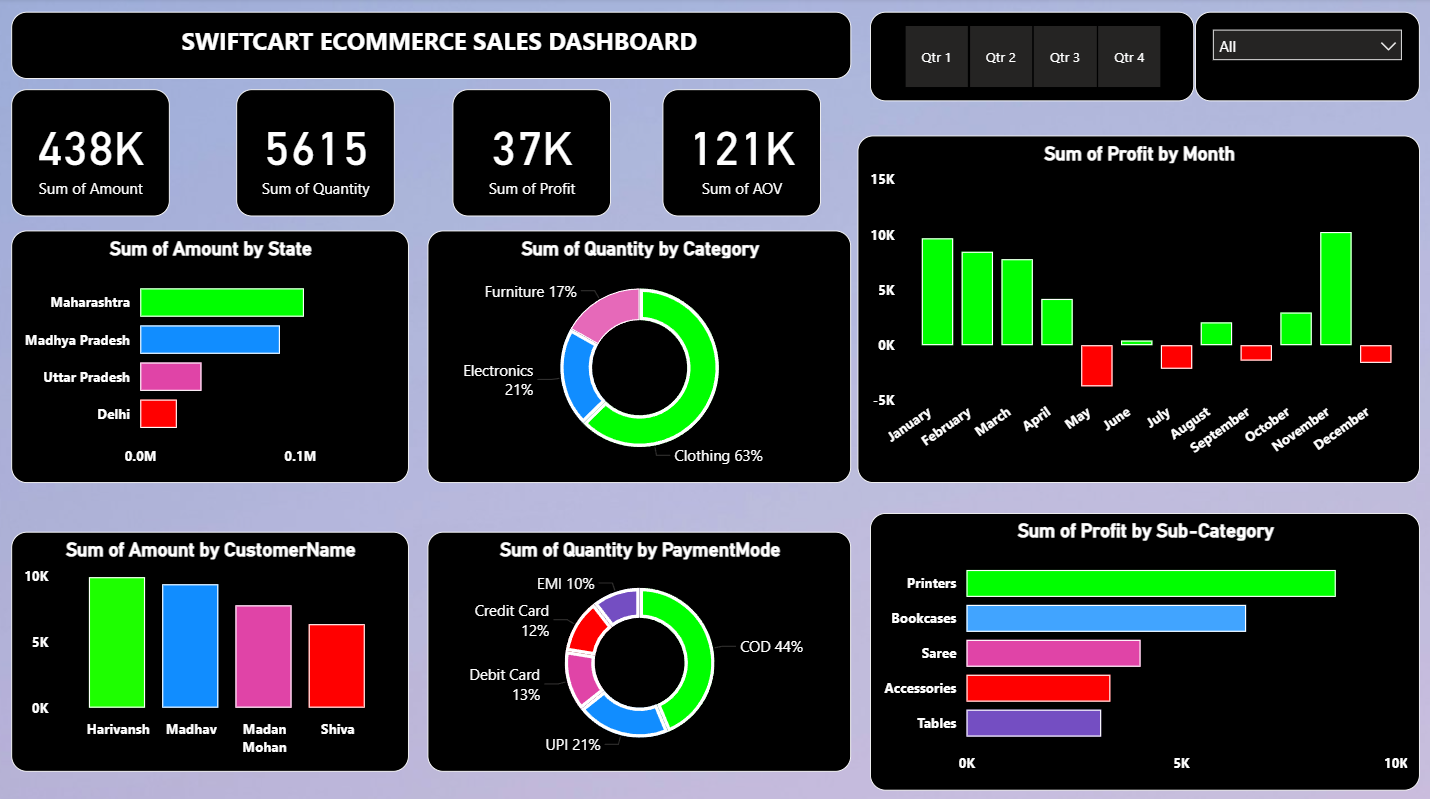

This screenshot's page, from the dashboard's own definition file:
{"tool":"powerbi","page":{"name":"Page 1","canvas":[1280,720],"ordinal":0},"visuals":[{"type":"textbox","box":[10,12.3,750.4,60.3],"z":0},{"type":"columnChart","fields":{"Y":["Details.Profit"],"Category":["Orders.Order Date.Variation.Date Hierarchy.Month"]},"box":[766,122.8,502.5,310.4],"z":1000},{"type":"barChart","fields":{"Category":["Details.Sub-Category"],"Y":["Details.Profit"]},"box":[777.2,460.1,491.3,247.9],"z":2000},{"type":"donutChart","fields":{"Category":["Details.Category"],"Y":["Details.Quantity"]},"box":[381.9,207.7,378.5,225.6],"z":3000},{"type":"donutChart","fields":{"Y":["Details.Quantity"],"Category":["Details.PaymentMode"]},"box":[381.9,476.8,378.5,214.4],"z":4000},{"type":"card","fields":{"Values":["Details.Amount"]},"box":[10,81.5,141.8,113.9],"z":5000},{"type":"card","fields":{"Values":["Details.Quantity"]},"box":[211,81.5,141.8,113.9],"z":6000},{"type":"card","fields":{"Values":["Details.Profit"]},"box":[404.2,81.5,141.8,113.9],"z":7000},{"type":"card","fields":{"Values":["Details.AOV"]},"box":[591.8,81.5,141.8,113.9],"z":8000},{"type":"barChart","fields":{"Category":["Orders.State"],"Y":["Details.Amount"]},"box":[10,207.7,355.1,225.6],"z":9000},{"type":"columnChart","fields":{"Category":["Orders.CustomerName"],"Y":["Details.Amount"]},"box":[10,477,355,214],"z":10000},{"type":"slicer","fields":{"Values":["Orders.Order Date.Variation.Date Hierarchy.Quarter"]},"box":[777.2,12.3,289.2,80.4],"z":11000},{"type":"slicer","fields":{"Values":["Orders.State"]},"box":[1067.5,12.3,201,80.4],"z":12000}]}

Visuals, with their boxes in screenshot pixels (x1, y1, x2, y2), scaled from the page's 1280x720 canvas onto the 1430x799 screenshot:
textbox: x1=11, y1=14, x2=850, y2=81
columnChart - Details.Profit x Orders.Order Date.Variation.Date Hierarchy.Month: x1=856, y1=136, x2=1417, y2=481
barChart - Details.Sub-Category x Details.Profit: x1=868, y1=511, x2=1417, y2=786
donutChart - Details.Category x Details.Quantity: x1=427, y1=230, x2=850, y2=481
donutChart - Details.Quantity x Details.PaymentMode: x1=427, y1=529, x2=850, y2=767
card - Details.Amount: x1=11, y1=90, x2=170, y2=217
card - Details.Quantity: x1=236, y1=90, x2=394, y2=217
card - Details.Profit: x1=452, y1=90, x2=610, y2=217
card - Details.AOV: x1=661, y1=90, x2=820, y2=217
barChart - Orders.State x Details.Amount: x1=11, y1=230, x2=408, y2=481
columnChart - Orders.CustomerName x Details.Amount: x1=11, y1=529, x2=408, y2=767
slicer - Orders.Order Date.Variation.Date Hierarchy.Quarter: x1=868, y1=14, x2=1191, y2=103
slicer - Orders.State: x1=1193, y1=14, x2=1417, y2=103
